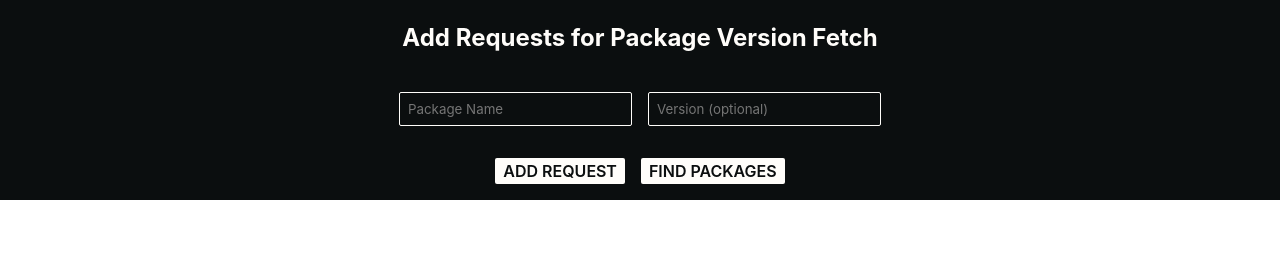
Scenario: Packages Component › Should handle API errors gracefully
Note: Fill out the first row
Type "invalid-package" into the field with placeholder "Package Name" at (516, 109), box [399,92,632,126]
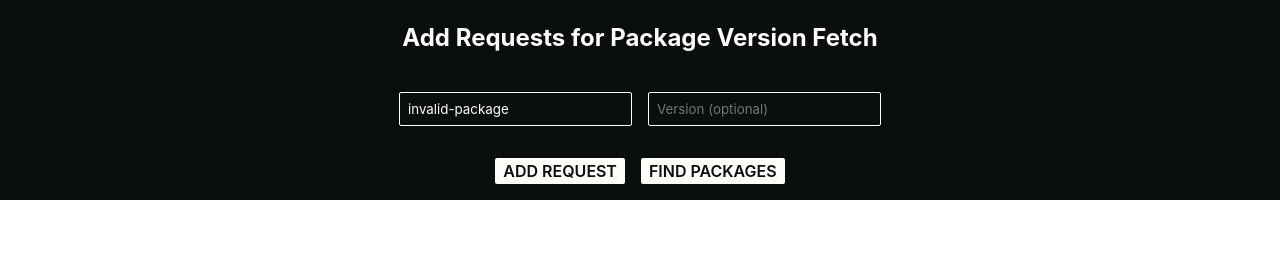
Note: Simulate clicking "Find Packages"
Click the button "Find Packages" at (713, 171), box [641,158,785,184]
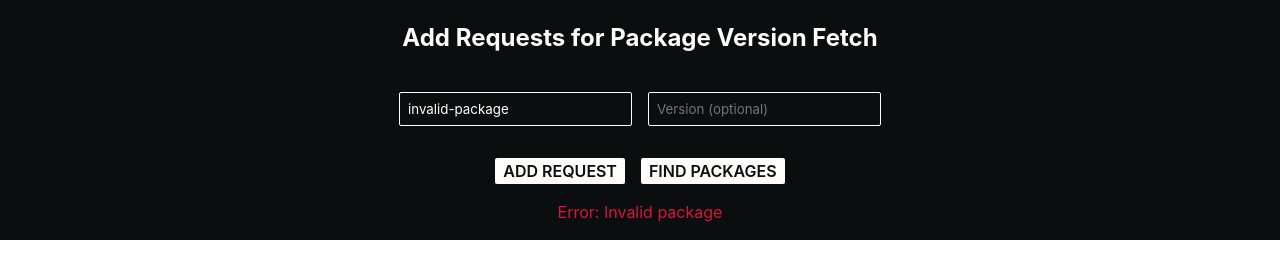
Result: the text "Error: Invalid package" is shown at [558,200,722,224]
